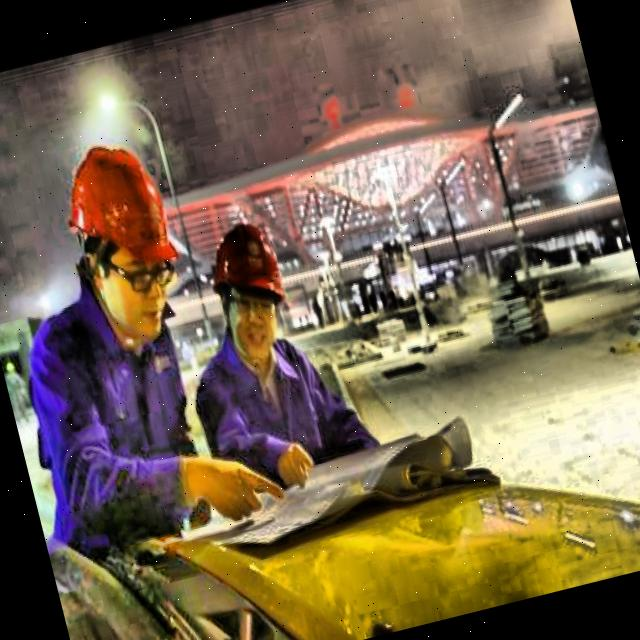helmet: (38, 116, 198, 343), (195, 208, 308, 369)
